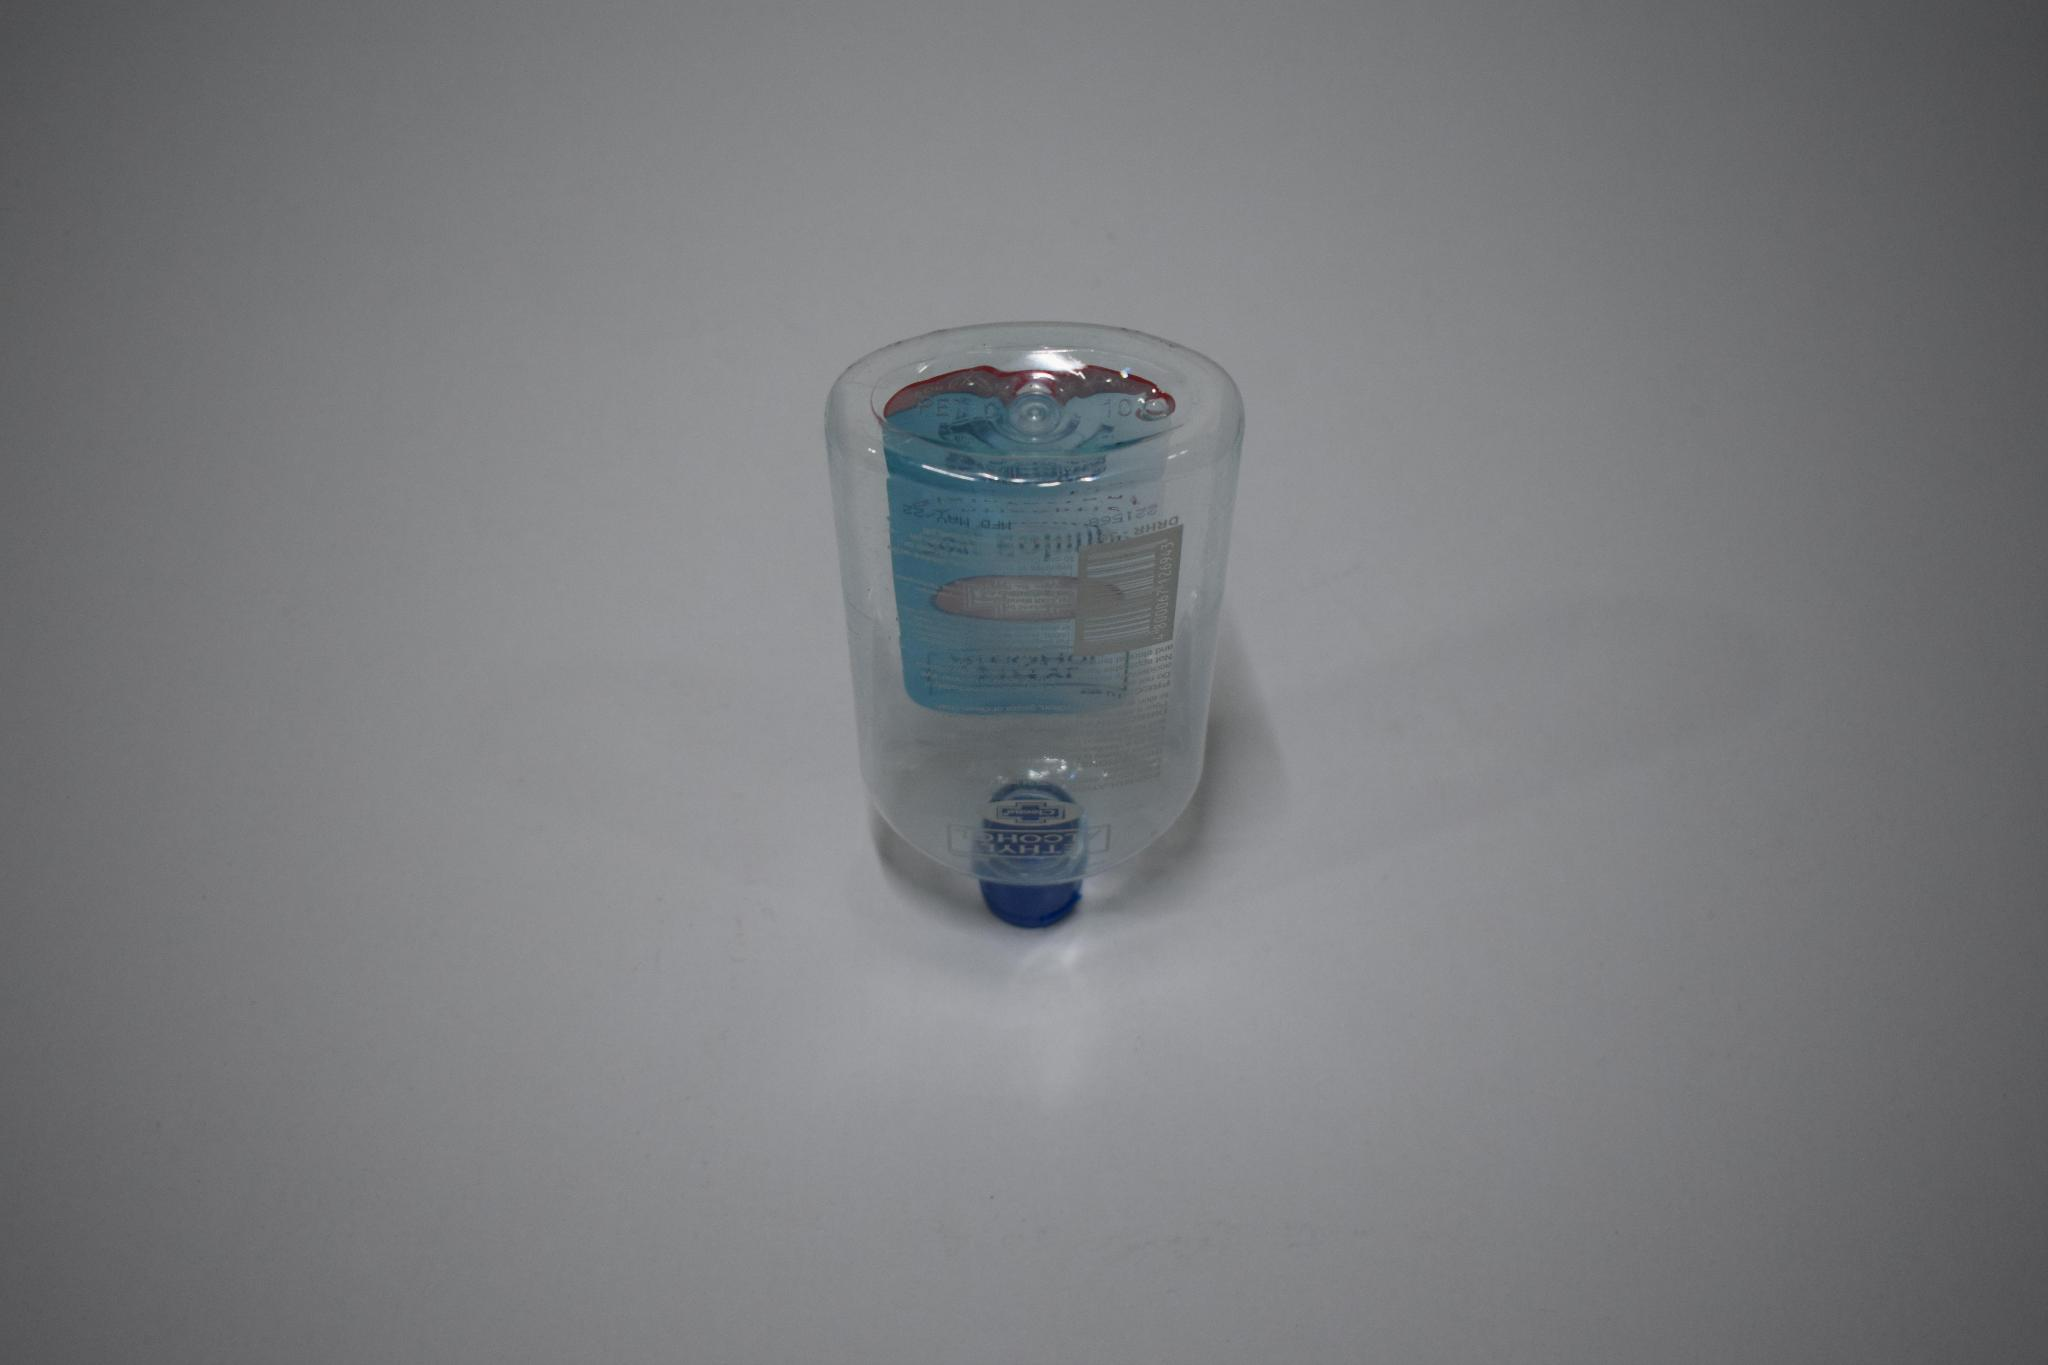bottle: (799, 309, 1270, 969)
